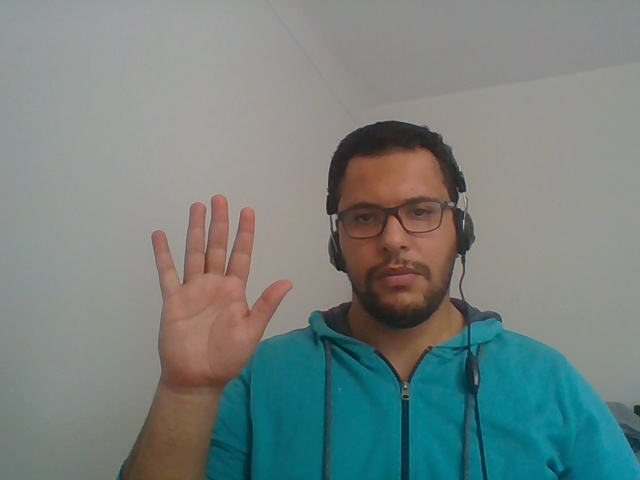hello: (133, 179, 304, 428)
